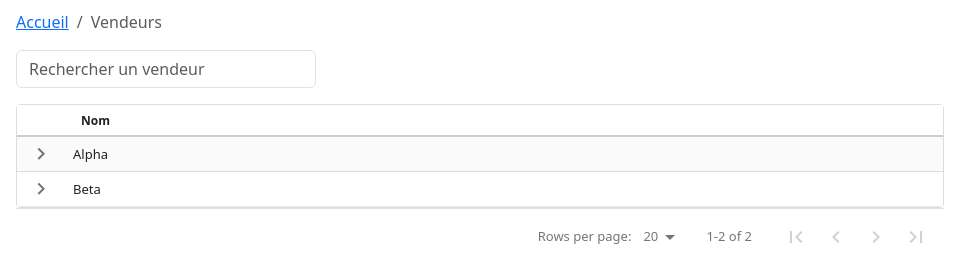
SellersList › filtre les sellers via l’input
Type "Alpha" into the field with placeholder "Rechercher un vendeur" at (166, 69), box [16, 50, 316, 88]
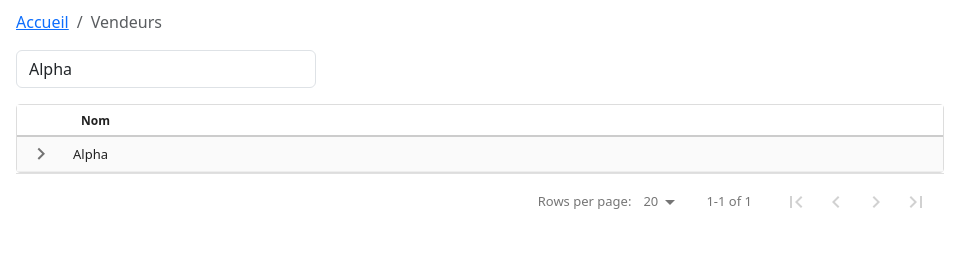
expect the text "Alpha" is shown: met, box [73, 145, 108, 163]
expect the text "Beta" is gone: met
